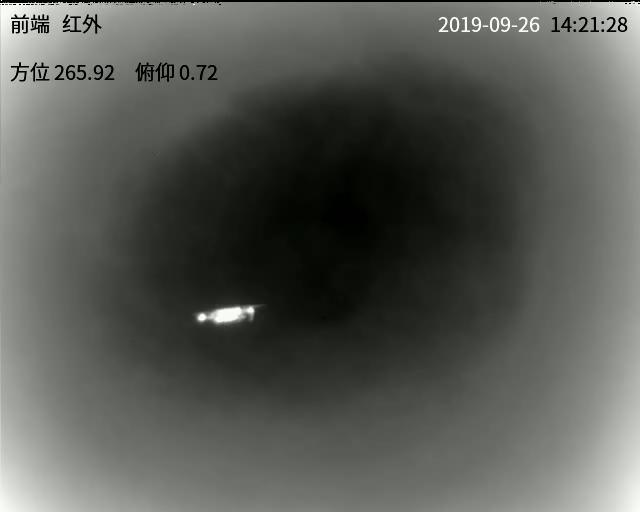uav: (195, 300, 265, 328)
